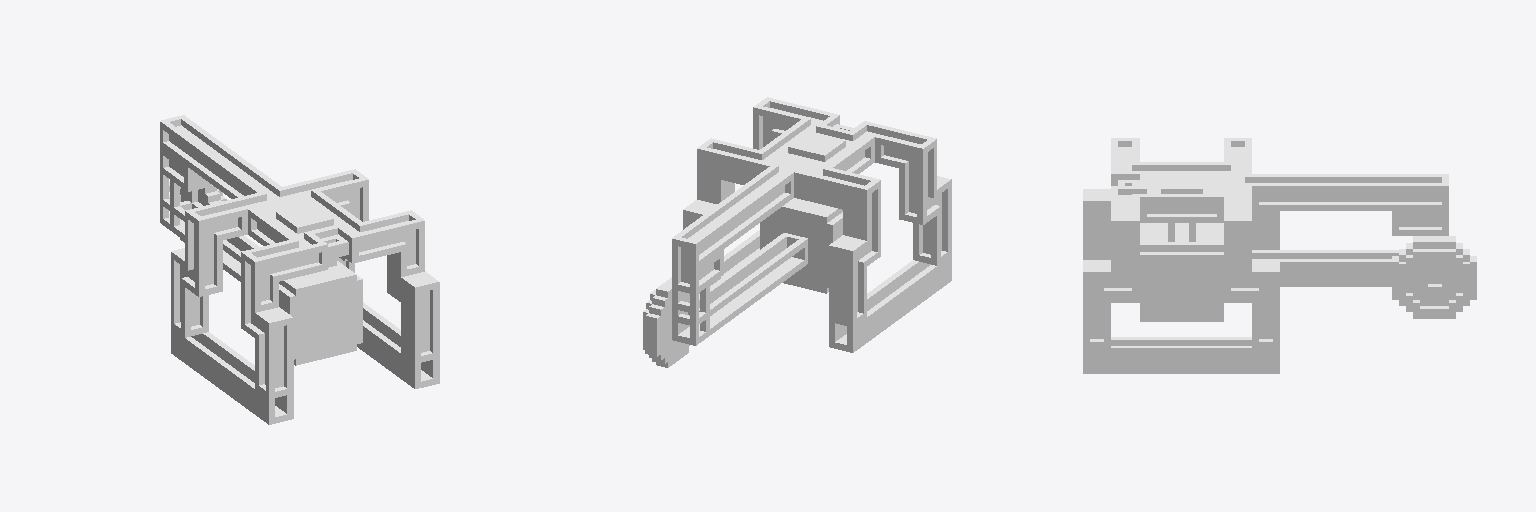
Rendered from F_2_14_45_a_Body.obj.
The picture shows the model from 3 angles: view 1: azimuth 30°, elevation 25°; view 2: azimuth 150°, elevation 25°; view 3: azimuth 270°, elevation 25°; orthographic projection.
Parts seen in each view (by area): view 1: object 1; view 2: object 1; view 3: object 1.
Boxes of the visible parts, box(x1,y1,x2,y2) form: object 1: box(160, 115, 439, 424); object 1: box(643, 97, 951, 367); object 1: box(1083, 138, 1476, 373).
Bounding box in the file's own units: 2.8 × 2.4 × 5.6.